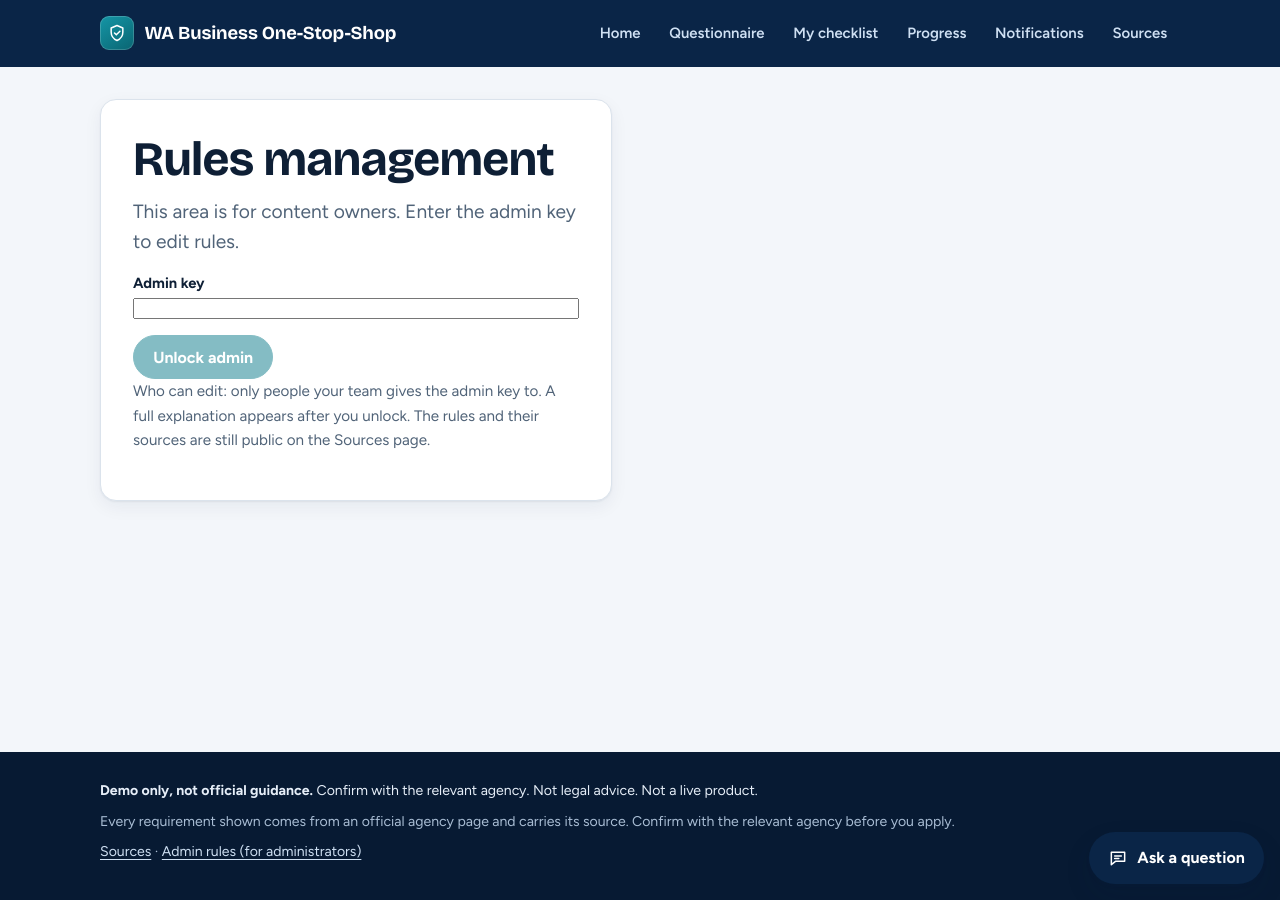
Test case: admin key gate › asks for the key when the server requires one, and unlocks with a matching key
Type "wrong" into the password field labelled "Admin key".
click(356, 309); type("wrong")  # box [133, 298, 579, 319]
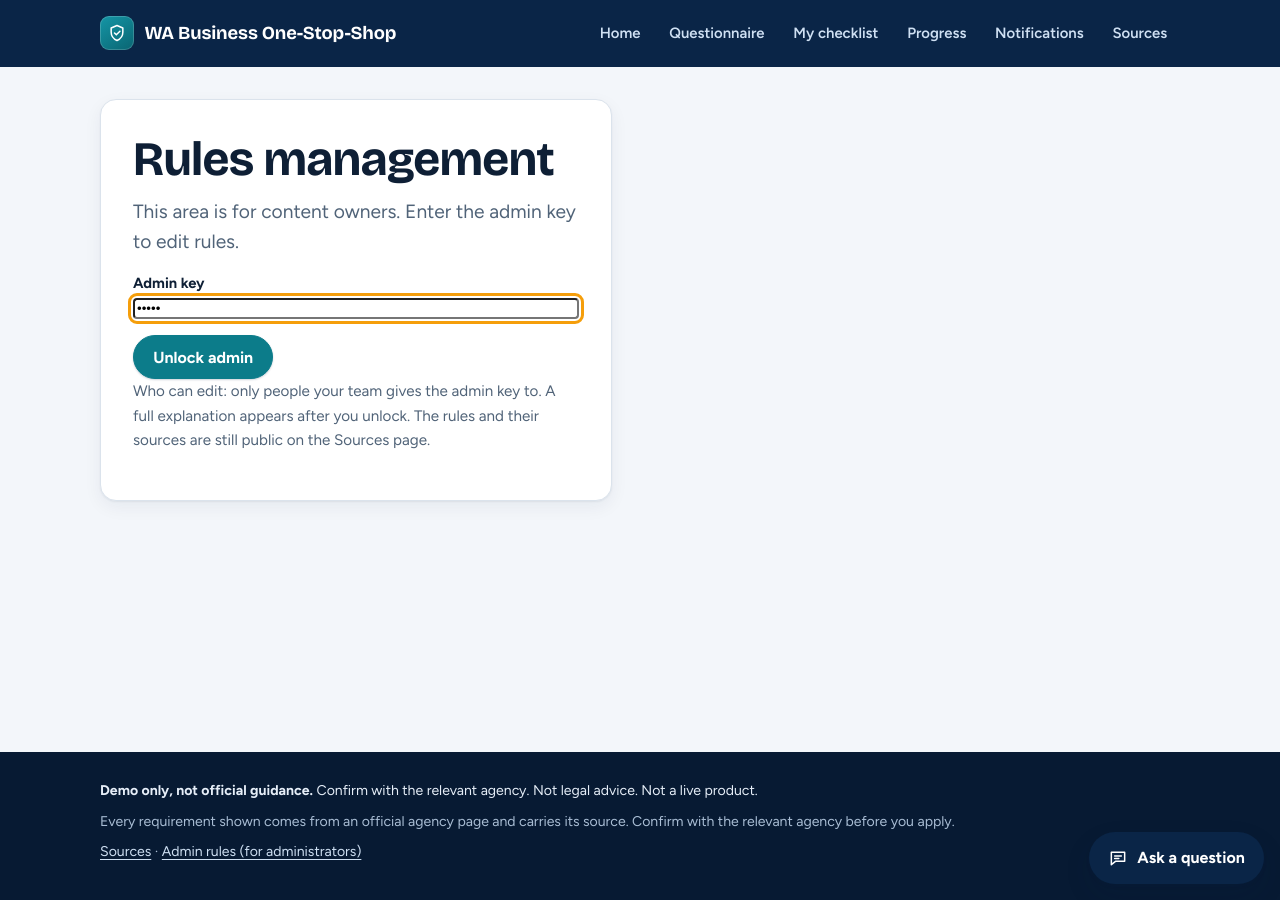
Click the button "Unlock admin".
click(203, 357)  # box [133, 335, 273, 379]
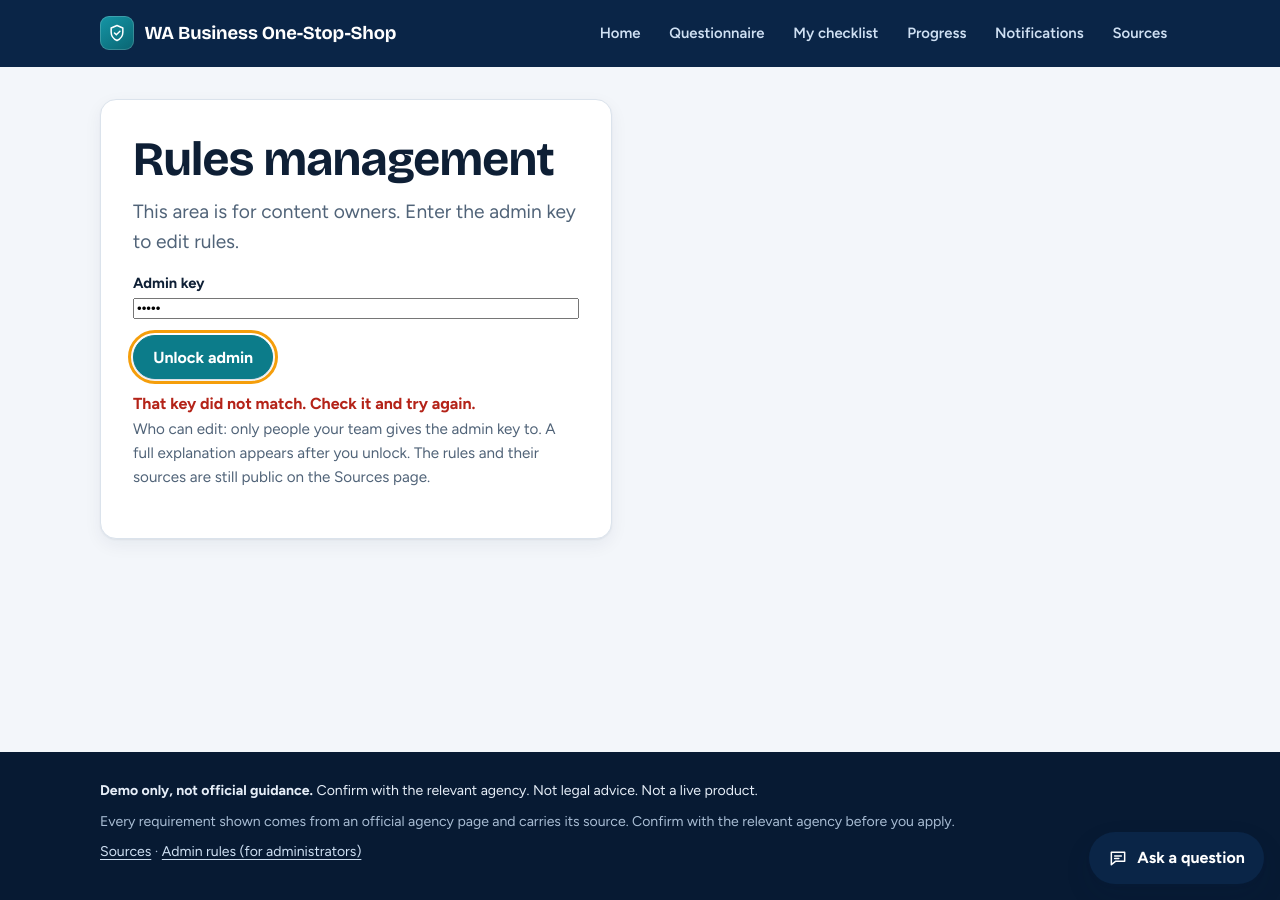
Check: the text "That key did not match. Check it and try again." is shown, box [133, 394, 476, 413]
Type "right-key" into the password field labelled "Admin key".
click(356, 309); type("right-key")  # box [133, 298, 579, 319]
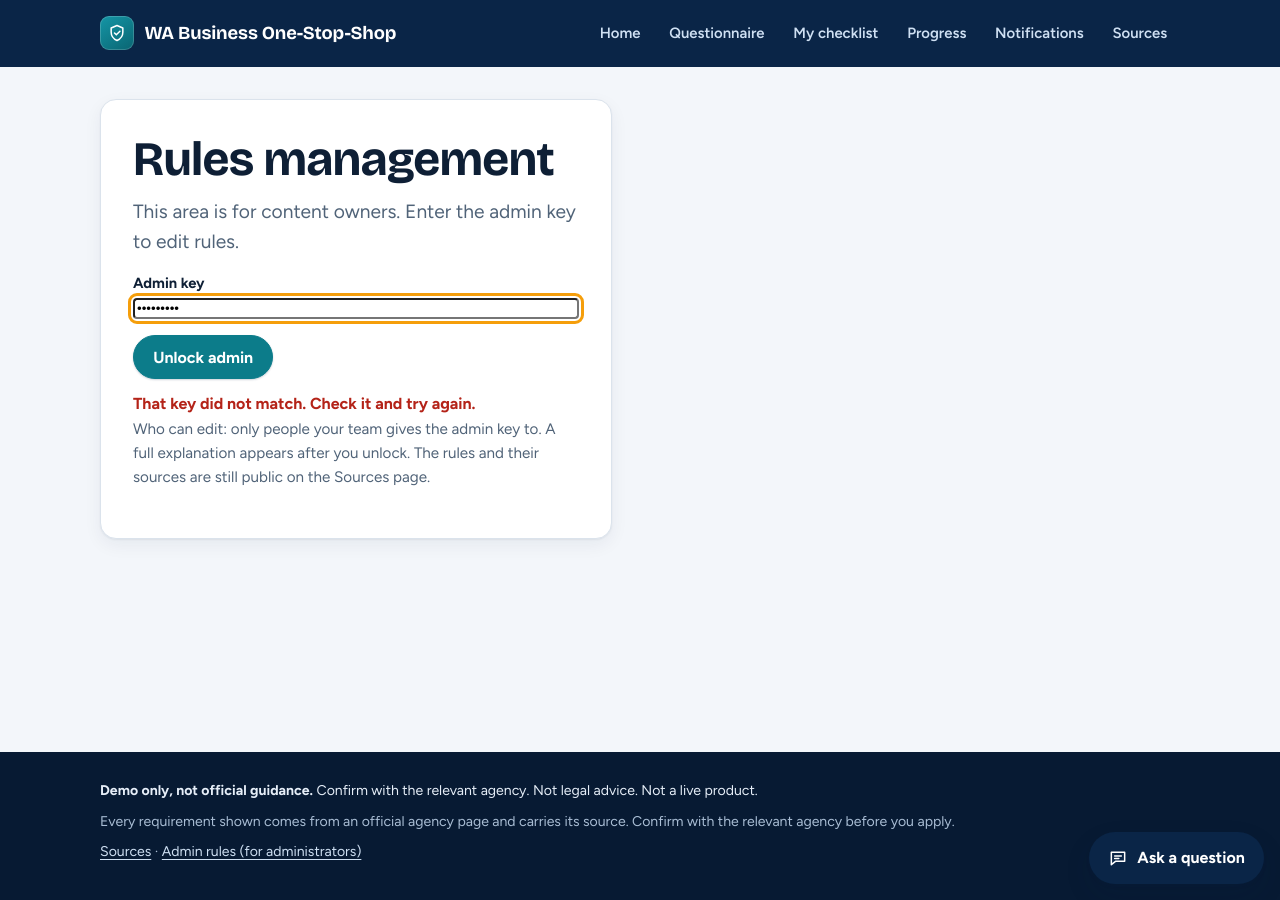
Click the button "Unlock admin".
click(203, 357)  # box [133, 335, 273, 379]
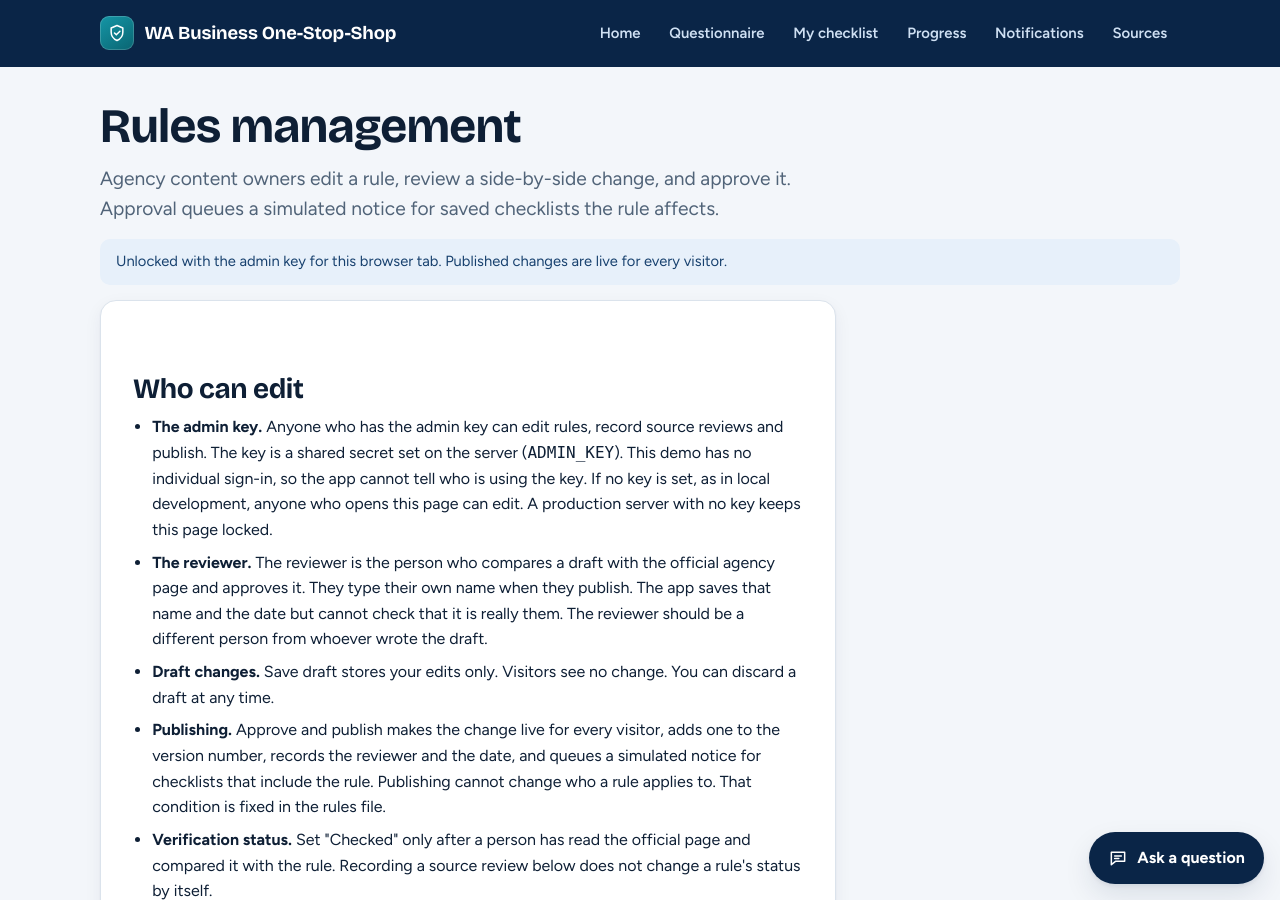
Check: the text "Unlocked with the admin key" is shown, box [116, 252, 727, 270]
